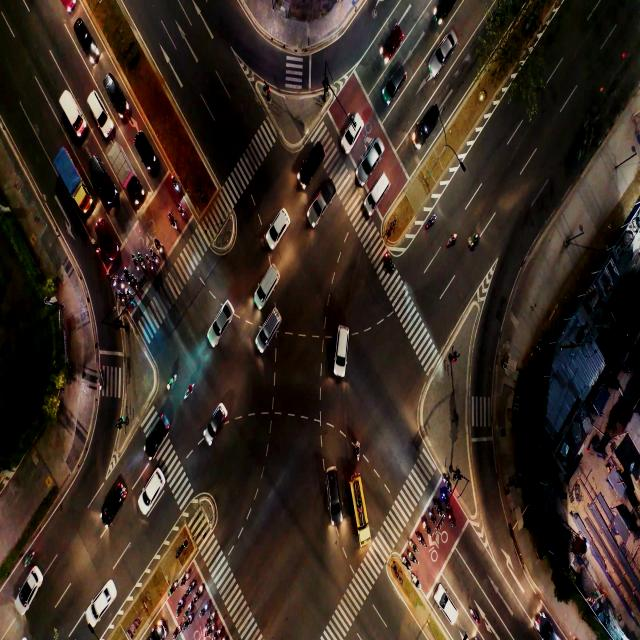bus: (353, 485, 365, 515)
car: (262, 315, 278, 340), (216, 307, 231, 331), (78, 28, 92, 50), (335, 332, 347, 356), (307, 147, 320, 169), (442, 32, 454, 55), (264, 267, 276, 290), (98, 590, 109, 614), (543, 621, 558, 638), (348, 116, 362, 134), (138, 139, 152, 157), (328, 474, 338, 499), (111, 481, 120, 508), (438, 1, 454, 16), (212, 410, 224, 430), (150, 426, 162, 446), (423, 110, 433, 133), (28, 573, 38, 595), (442, 598, 455, 614), (149, 479, 159, 499), (97, 168, 107, 187), (370, 147, 381, 164), (388, 34, 399, 50), (392, 72, 402, 89), (376, 178, 386, 195), (104, 227, 114, 243), (278, 211, 285, 230), (111, 85, 120, 99), (95, 102, 101, 116)
motorcycle: (23, 547, 36, 565), (384, 254, 394, 272), (184, 387, 195, 401), (468, 232, 478, 246), (167, 373, 176, 387), (426, 217, 436, 229), (448, 234, 456, 249), (354, 441, 362, 456), (472, 610, 479, 624), (171, 219, 178, 231), (98, 372, 104, 385), (216, 626, 223, 637), (176, 600, 184, 608), (174, 183, 180, 193), (180, 208, 185, 220), (120, 280, 126, 290), (126, 272, 130, 285), (432, 513, 436, 525), (134, 279, 139, 288), (188, 613, 193, 622), (451, 514, 455, 525), (188, 583, 194, 590), (413, 577, 418, 585), (158, 243, 163, 251), (110, 274, 114, 284), (199, 584, 203, 594), (426, 524, 430, 533), (171, 583, 175, 592), (142, 260, 146, 268), (120, 294, 124, 302), (438, 506, 442, 513), (211, 612, 215, 619), (421, 534, 424, 543), (154, 253, 157, 262), (128, 293, 131, 302), (444, 494, 447, 502), (411, 542, 415, 548), (187, 604, 191, 610), (204, 604, 208, 610), (210, 626, 214, 632), (446, 479, 449, 486), (96, 246, 99, 253), (149, 258, 152, 265), (136, 264, 139, 271), (176, 624, 179, 631), (406, 560, 410, 565), (184, 574, 188, 579), (413, 556, 416, 562)
truck: (316, 193, 328, 215), (64, 165, 75, 188), (66, 100, 77, 120), (120, 160, 128, 177)
